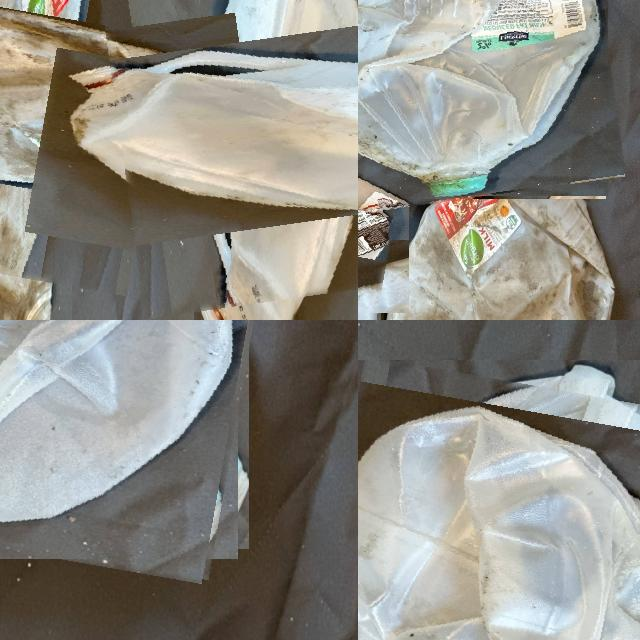milk-jug: (110, 0, 358, 308), (358, 371, 640, 640), (0, 320, 259, 569), (358, 0, 616, 207), (0, 0, 176, 283), (376, 169, 619, 320)
